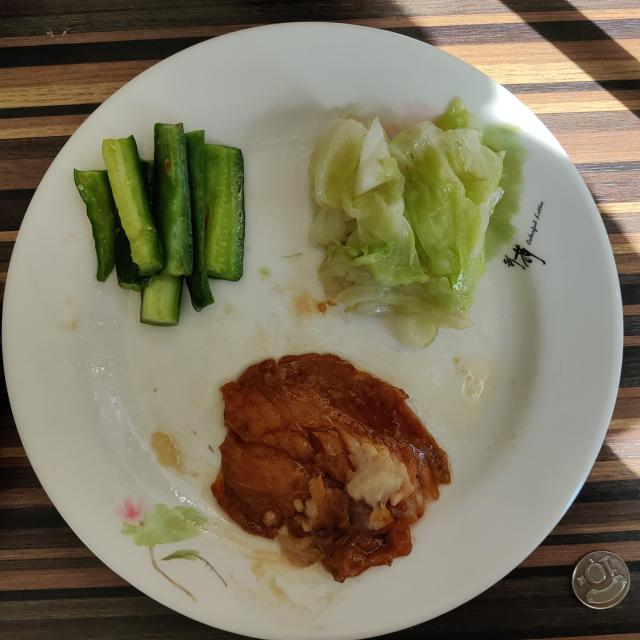Kabayaki sea bream fillet: (211, 352, 451, 582)
cabbage: (309, 99, 505, 348)
coin: (571, 551, 630, 610)
cucumber: (74, 124, 245, 326)
